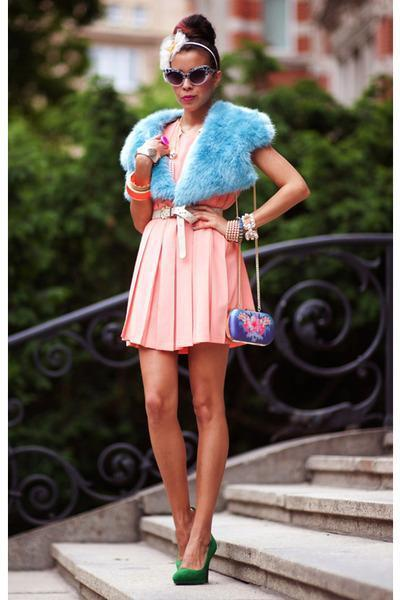bag: (228, 305, 281, 345)
dress: (122, 118, 259, 353)
shoe: (199, 519, 227, 563)
